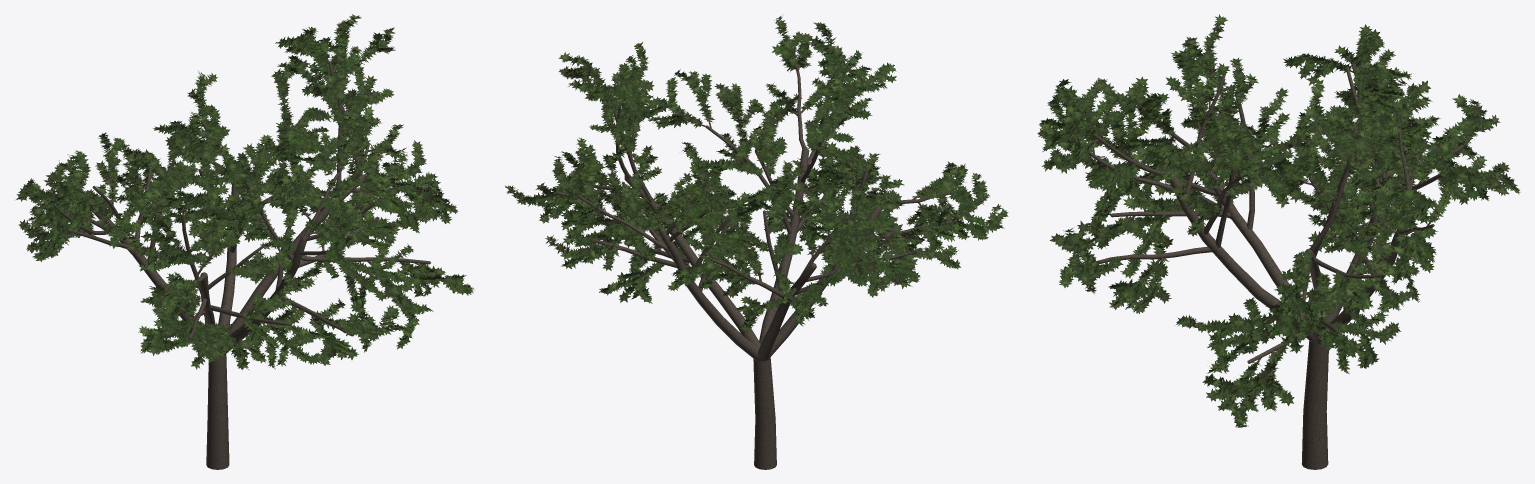
File: SM_Plant_LiveOak.fbx
3 renders of one model, left to right at view 1: azimuth 30°, elevation 25°; view 2: azimuth 150°, elevation 25°; view 3: azimuth 270°, elevation 25°, orthographic. The views are drawn at different scales.
Visible parts, largest first — view 1: SM_Plant_LiveOak; view 2: SM_Plant_LiveOak; view 3: SM_Plant_LiveOak.
Part boxes in pixels (x1,y1,x2,y2): SM_Plant_LiveOak: (16, 14, 474, 469); SM_Plant_LiveOak: (505, 14, 1008, 469); SM_Plant_LiveOak: (1037, 14, 1520, 469).
Bounding box in the file's own units: 18.27 × 17.08 × 16.45.
2 materials, 2 textured.
